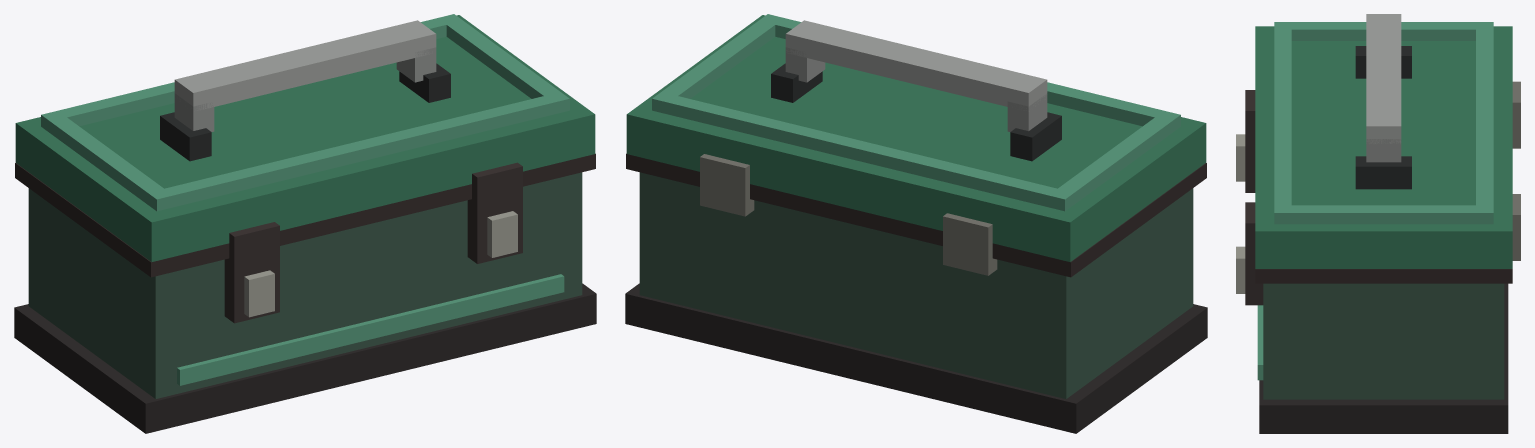
File: CMU3DGreenMechanicalToolbox.glb
3 views of the same model, side by side, from view 1: azimuth 30°, elevation 25°; view 2: azimuth 150°, elevation 25°; view 3: azimuth 270°, elevation 25° (orthographic). The views are drawn at different scales.
Parts seen in each view (by area): view 1: colored box body, closed lid, dark lower shell, lid end bevel (×2), raised carry handle, lid seam, front lower strengthening lip, latch housing (×2), lid side bevel (×2), handle mounting pivot (×2), steel latch (×2), raised handle left (+1 smaller); view 2: colored box body, closed lid, dark lower shell, lid end bevel (×2), raised carry handle, lid seam, lid side bevel (×2), rear hinge (×2), handle mounting pivot (×2), raised handle left, raised handle right; view 3: closed lid, colored box body, dark lower shell, lid side bevel (×2), lid end bevel (×2), raised carry handle, lid seam, handle mounting pivot (×2), latch housing (×2), rear hinge (×2), steel latch (×2), raised handle right (+1 smaller).
Part boxes in pixels (left/top/right/bottom): colored box body: left=28, top=172, right=582, bottom=398; closed lid: left=15, top=15, right=595, bottom=261; dark lower shell: left=14, top=283, right=596, bottom=433; lid end bevel (×2): left=58, top=18, right=553, bottom=206; raised carry handle: left=174, top=20, right=436, bottom=110; lid seam: left=15, top=153, right=595, bottom=277; front lower strengthening lip: left=177, top=274, right=564, bottom=385; latch housing (×2): left=224, top=162, right=522, bottom=323; lid side bevel (×2): left=41, top=14, right=569, bottom=211; handle mounting pivot (×2): left=160, top=63, right=450, bottom=161; steel latch (×2): left=244, top=211, right=517, bottom=317; raised handle left: left=174, top=93, right=214, bottom=131; colored box body: left=639, top=172, right=1193, bottom=398; closed lid: left=626, top=15, right=1206, bottom=261; dark lower shell: left=625, top=283, right=1207, bottom=433; lid end bevel (×2): left=668, top=18, right=1163, bottom=206; raised carry handle: left=785, top=20, right=1047, bottom=111; lid seam: left=626, top=153, right=1206, bottom=277; lid side bevel (×2): left=652, top=14, right=1180, bottom=211; rear hinge (×2): left=700, top=154, right=997, bottom=275; handle mounting pivot (×2): left=771, top=63, right=1061, bottom=161; raised handle left: left=1007, top=93, right=1047, bottom=131; raised handle right: left=785, top=47, right=825, bottom=82; closed lid: left=1255, top=26, right=1512, bottom=268; colored box body: left=1263, top=283, right=1504, bottom=399; dark lower shell: left=1259, top=283, right=1508, bottom=433; lid side bevel (×2): left=1274, top=22, right=1493, bottom=224; lid end bevel (×2): left=1274, top=29, right=1493, bottom=205; raised carry handle: left=1366, top=14, right=1401, bottom=143; lid seam: left=1255, top=269, right=1512, bottom=283; handle mounting pivot (×2): left=1355, top=46, right=1411, bottom=189; latch housing (×2): left=1245, top=90, right=1263, bottom=305; rear hinge (×2): left=1512, top=81, right=1520, bottom=260; steel latch (×2): left=1236, top=134, right=1245, bottom=293; raised handle right: left=1366, top=139, right=1401, bottom=162.
Size of the model in its own units: 0.594 by 0.345 by 0.343.
